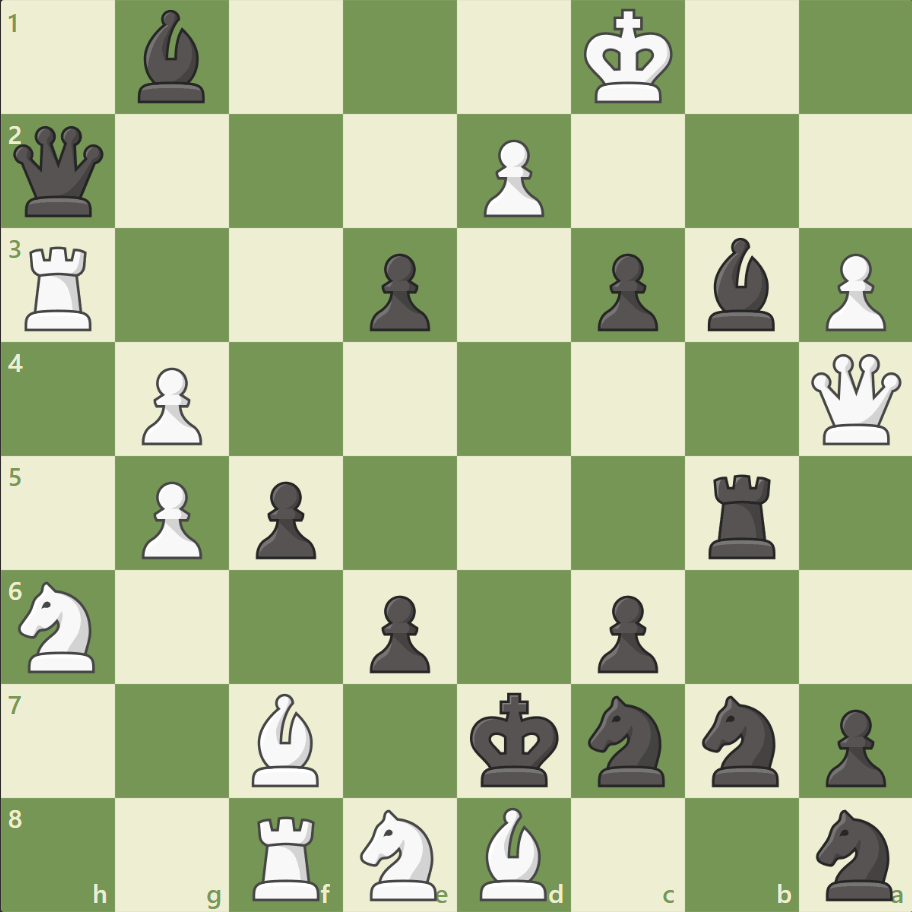B: (471, 801, 555, 904), (244, 687, 328, 790)
K: (579, 4, 679, 112)
N: (351, 802, 449, 904), (11, 575, 108, 677)
P: (133, 473, 208, 564), (133, 359, 208, 450), (474, 132, 549, 223), (815, 246, 889, 337)
Q: (805, 349, 904, 449)
R: (246, 806, 329, 904), (19, 239, 102, 336)
b: (698, 233, 782, 336), (131, 6, 215, 109)
k: (465, 685, 565, 793)
n: (692, 688, 789, 791), (579, 688, 676, 791), (806, 802, 903, 904)
p: (247, 473, 322, 564), (815, 700, 889, 791), (588, 586, 662, 677), (361, 586, 435, 677), (588, 246, 662, 337), (361, 246, 435, 337)
q: (10, 122, 109, 222)
r: (700, 466, 783, 563)
